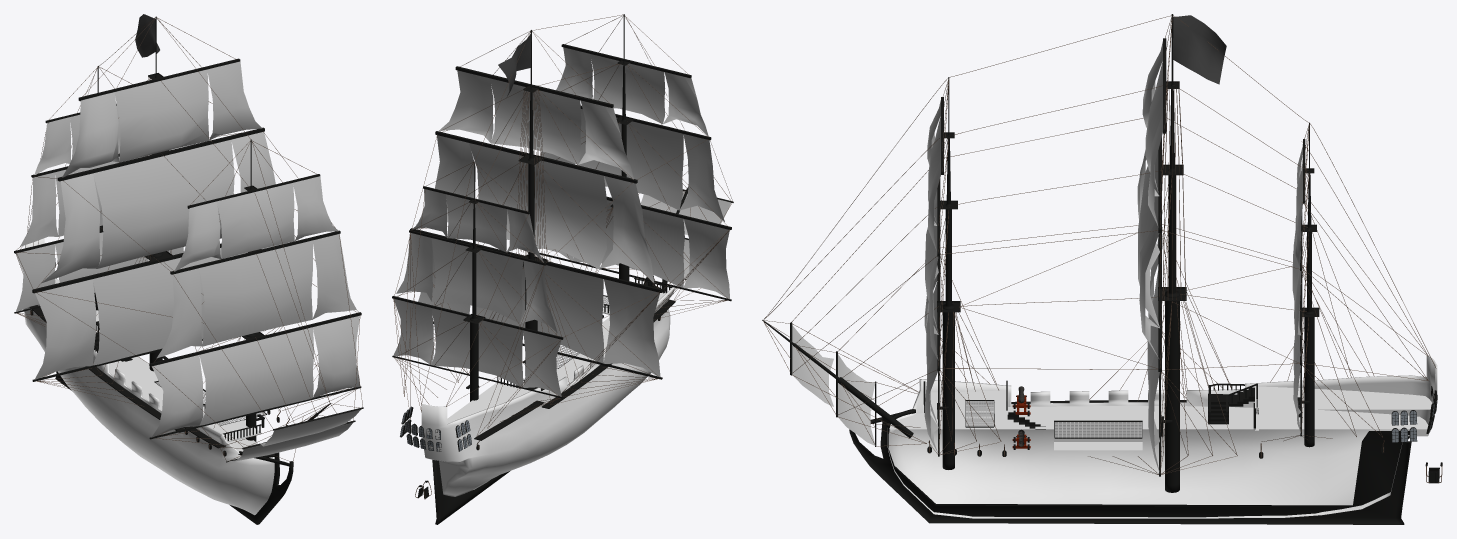
Rendered from ship2.gltf.
The picture shows the model from 3 angles, left to right: view 1: azimuth 30°, elevation 25°; view 2: azimuth 150°, elevation 25°; view 3: azimuth 270°, elevation 25°; orthographic projection. The views are drawn at different scales.
Parts seen in each view (by area): view 1: Plane.034, Plane.029, Plane.030, Plane.033, Plane.035, BezierCurve.010, Plane.031, BezierCurve.029, Cylinder.010, Cylinder.007, Plane.028, Plane.027 (+8 smaller); view 2: Plane.034, BezierCurve.010, Plane.033, BezierCurve.029, Plane.035, Plane.028, Plane.027, Plane.030, Plane.031, Plane.029, Plane.026, Cylinder.010 (+7 smaller); view 3: BezierCurve.010, BezierCurve.029, Plane.037, Cube.051, Cylinder.010, Cylinder.007, Cylinder.006, Plane.034, Plane.032, Plane.033, Plane.025, Plane.024 (+7 smaller).
Boxes of the visible parts, left/top/right/bottom form: Plane.034: left=41, top=132, right=275, bottom=283; Plane.029: left=151, top=315, right=359, bottom=437; Plane.030: left=156, top=234, right=356, bottom=358; Plane.033: left=62, top=61, right=262, bottom=177; Plane.035: left=35, top=243, right=285, bottom=379; BezierCurve.010: left=22, top=238, right=274, bottom=515; Plane.031: left=174, top=176, right=338, bottom=271; BezierCurve.029: left=16, top=17, right=362, bottom=461; Cylinder.010: left=32, top=16, right=264, bottom=381; Cylinder.007: left=149, top=139, right=361, bottom=441; Plane.028: left=16, top=232, right=183, bottom=311; Plane.027: left=20, top=149, right=171, bottom=246; Plane.034: left=416, top=135, right=654, bottom=282; BezierCurve.010: left=421, top=285, right=676, bottom=496; Plane.033: left=439, top=70, right=633, bottom=179; BezierCurve.029: left=393, top=14, right=732, bottom=436; Plane.035: left=418, top=247, right=660, bottom=377; Plane.028: left=393, top=299, right=561, bottom=396; Plane.027: left=396, top=233, right=557, bottom=332; Plane.030: left=540, top=109, right=724, bottom=221; Plane.031: left=556, top=47, right=708, bottom=136; Plane.029: left=536, top=200, right=729, bottom=299; Plane.026: left=412, top=189, right=543, bottom=262; Cylinder.010: left=410, top=30, right=662, bottom=379; BezierCurve.010: left=887, top=356, right=1437, bottom=518; BezierCurve.029: left=763, top=15, right=1436, bottom=474; Plane.037: left=889, top=380, right=1432, bottom=450; Cube.051: left=849, top=409, right=1411, bottom=524; Cylinder.010: left=1158, top=14, right=1186, bottom=492; Cylinder.007: left=937, top=77, right=960, bottom=469; Cylinder.006: left=1300, top=122, right=1319, bottom=447; Plane.034: left=1137, top=150, right=1159, bottom=358; Plane.032: left=1173, top=15, right=1226, bottom=84; Plane.033: left=1142, top=41, right=1162, bottom=226; Plane.025: left=838, top=354, right=875, bottom=445; Plane.024: left=792, top=325, right=833, bottom=406.
Size of the model in its own units: 5.33 by 8.6 by 10.38.
